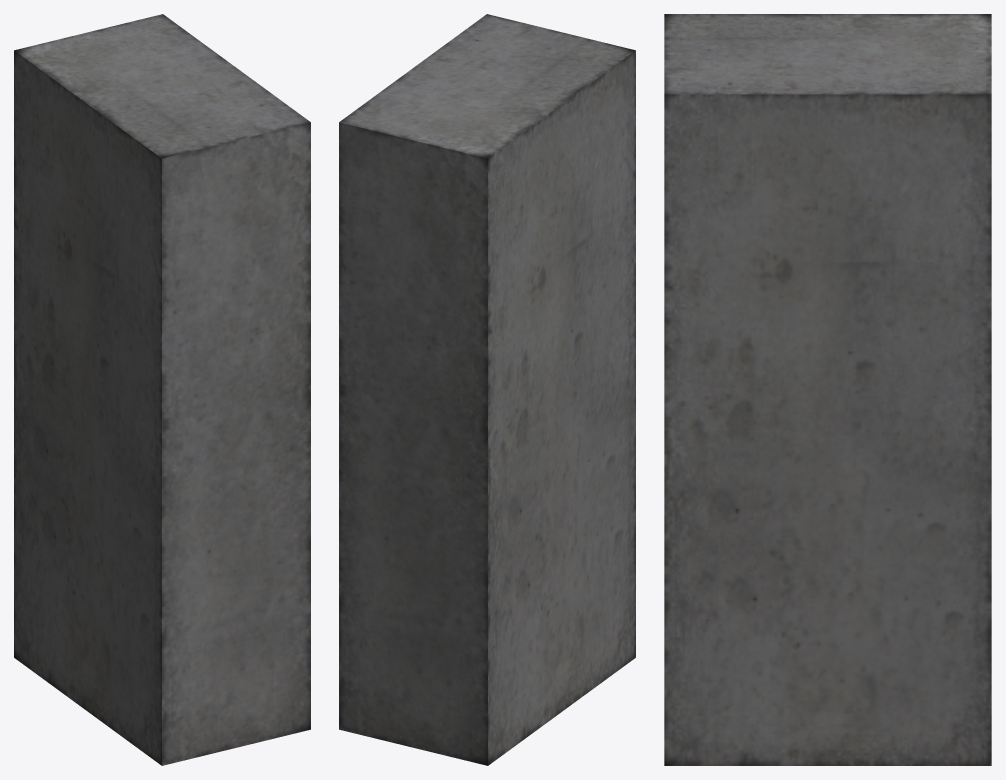
3 views of the same model, side by side, from view 1: azimuth 30°, elevation 25°; view 2: azimuth 150°, elevation 25°; view 3: azimuth 270°, elevation 25° (orthographic). The views are drawn at different scales.
Visible parts, largest first — view 1: Cube.005; view 2: Cube.005; view 3: Cube.005.
Boxes of the visible parts, x1=… form: Cube.005: x1=14, y1=14, x2=310, y2=765; Cube.005: x1=339, y1=14, x2=635, y2=765; Cube.005: x1=664, y1=14, x2=991, y2=765.
Bounding box in the file's own units: 52.88 × 206 × 90.96.
